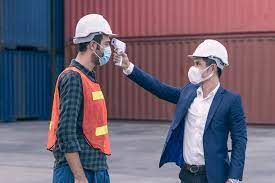Helmet: (189, 37, 231, 65), (70, 15, 116, 39)
Jacket: (44, 67, 113, 156)
Mask: (93, 44, 117, 65), (183, 66, 212, 83)
No-jacket: (168, 85, 228, 167)
